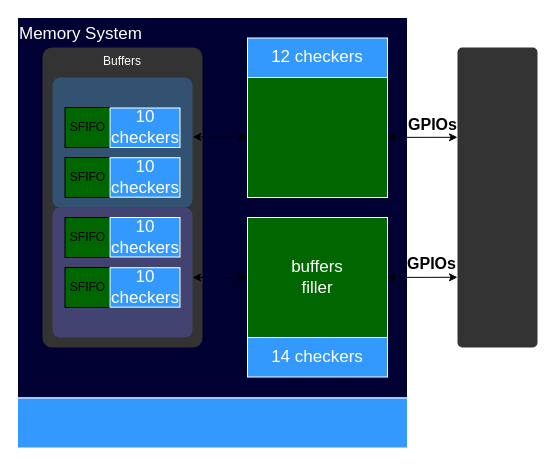
Image size: 555x466. Some labels were removed from this diagram. Here are the shapes that lost their labels. From the top down, the box of each, then its label:
(52, 77, 192, 207): Writing buffers
(246, 76, 388, 198): buffers discharger
(457, 47, 537, 347): external memory controller
(52, 207, 192, 337): Reading buffers
(16, 397, 408, 448): 6 checkers and a reference model with read/write checkers
